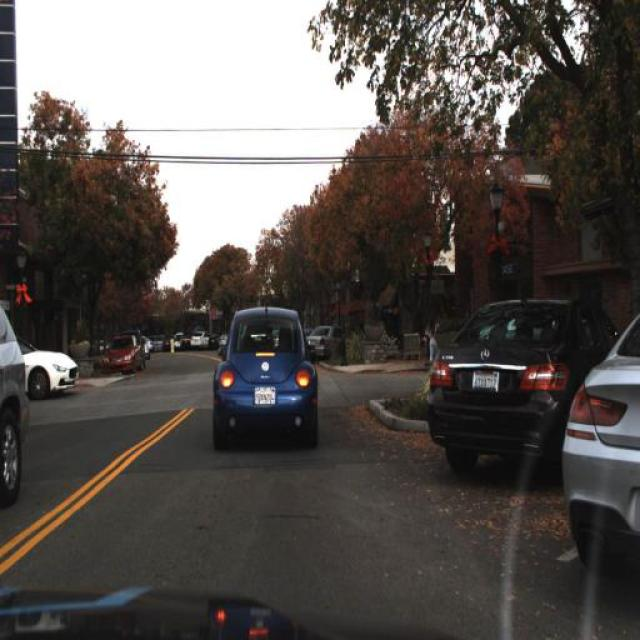car: (428, 301, 616, 480), (561, 317, 640, 591), (210, 300, 322, 452), (0, 302, 30, 517), (9, 330, 80, 400), (101, 331, 147, 377), (305, 316, 351, 362), (190, 330, 208, 350)
trafficLight: (422, 321, 443, 410)
